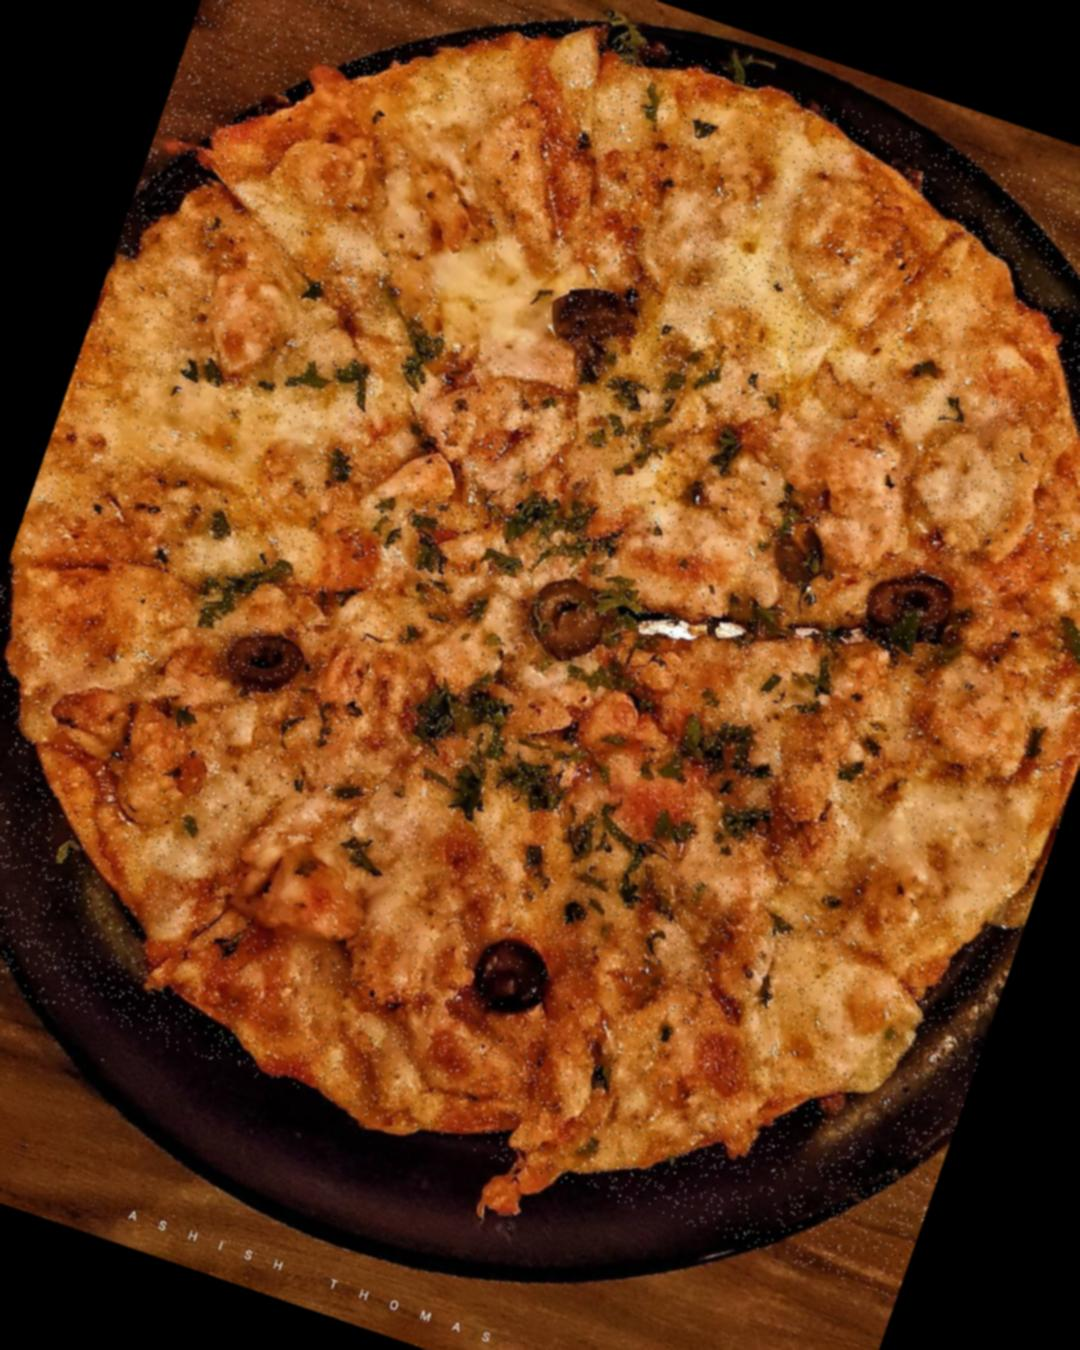Cheese: (646, 233, 860, 412), (841, 765, 1026, 930), (111, 371, 324, 514), (390, 224, 575, 371), (749, 939, 916, 1076), (609, 485, 767, 609)
Chicken: (485, 60, 705, 276), (23, 665, 249, 849), (282, 72, 505, 248), (407, 342, 586, 509), (737, 695, 884, 886), (341, 858, 487, 1038), (220, 822, 390, 965), (562, 687, 704, 832), (181, 259, 300, 391), (760, 423, 899, 525), (665, 885, 777, 1007), (312, 518, 386, 597)
Olives: (855, 551, 972, 665), (455, 927, 566, 1030), (519, 572, 618, 668), (216, 620, 312, 711), (546, 276, 641, 365), (768, 517, 842, 588)
Pizza: (0, 0, 1080, 1298)
